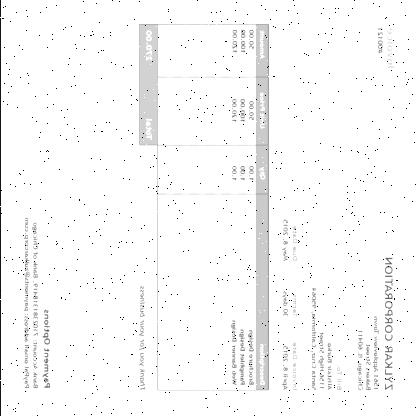Paragraph: (353, 255, 396, 395), (20, 215, 52, 392), (309, 286, 343, 394), (142, 28, 154, 142), (136, 284, 147, 394), (279, 340, 299, 394), (374, 26, 396, 72), (279, 217, 299, 265), (279, 288, 299, 320)
Table: (225, 24, 268, 390)
